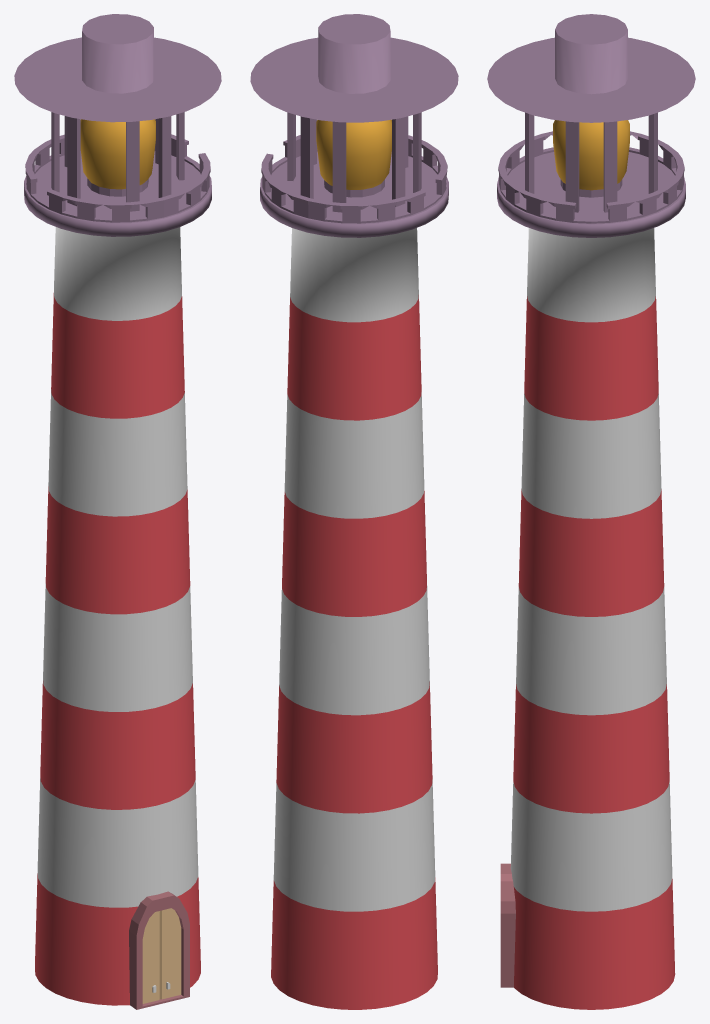
File: LightHouse.fbx
The picture shows the model from 3 angles, left to right: view 1: azimuth 30°, elevation 25°; view 2: azimuth 150°, elevation 25°; view 3: azimuth 270°, elevation 25°; orthographic projection.
Visible parts, largest first — view 1: LightHouse; view 2: LightHouse; view 3: LightHouse.
Boxes of the visible parts, x1=… form: LightHouse: x1=14, y1=14, x2=221, y2=1009; LightHouse: x1=250, y1=14, x2=458, y2=1009; LightHouse: x1=487, y1=14, x2=695, y2=1009.
Bounding box in the file's own units: 2501 × 12506 × 2501.
